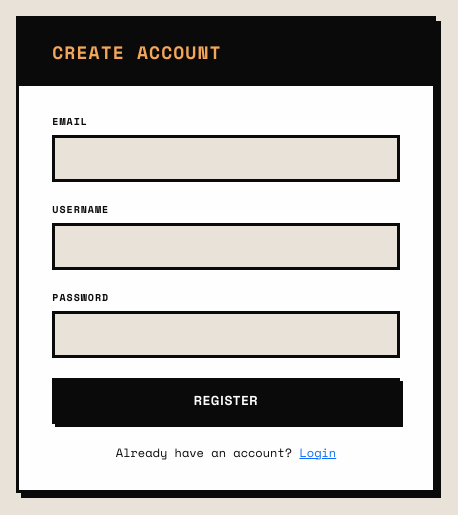
it: Register page › disables the submit button while loading
This screenshot has width=458, height=515.
Type "a@a.com" into the field labelled "Email" at (226, 159), box [52,135,400,182]
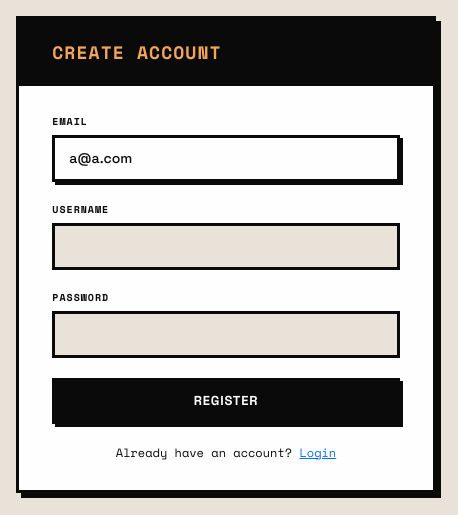
Type "auser" into the field labelled "Username" at (226, 247), box [52,223,400,270]
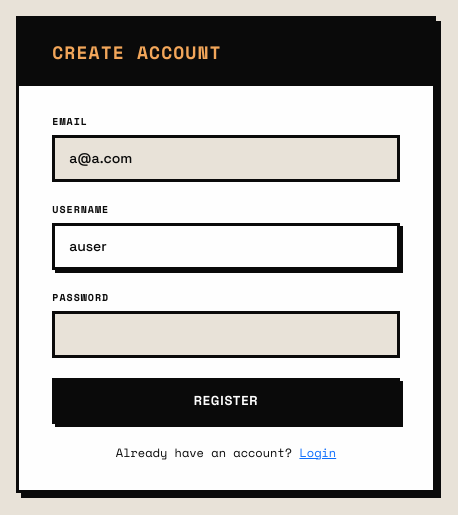
Type "pass" into the password field labelled "Password" at (226, 335), box [52,311,400,358]
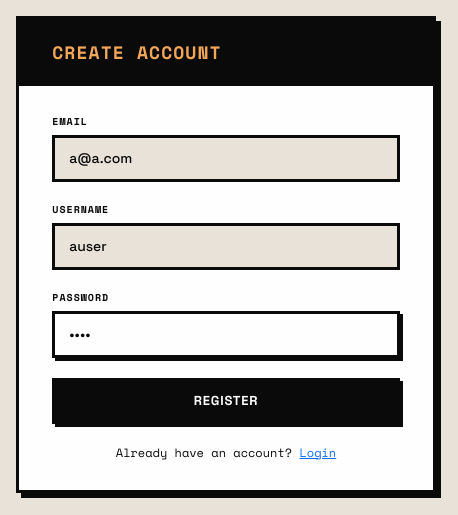
Click the button "Register" at (226, 401), box [52,378,400,424]
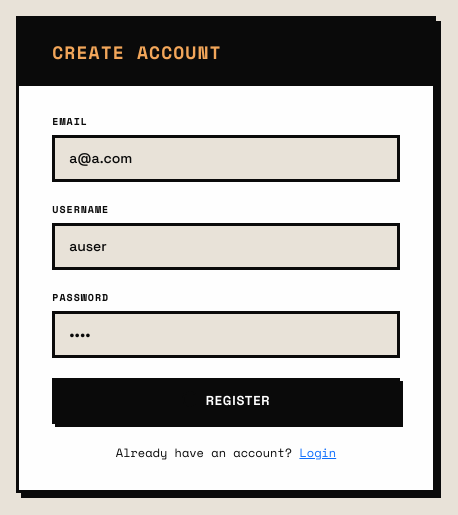
Now the button "Register" is disabled, box [52,378,400,424]
